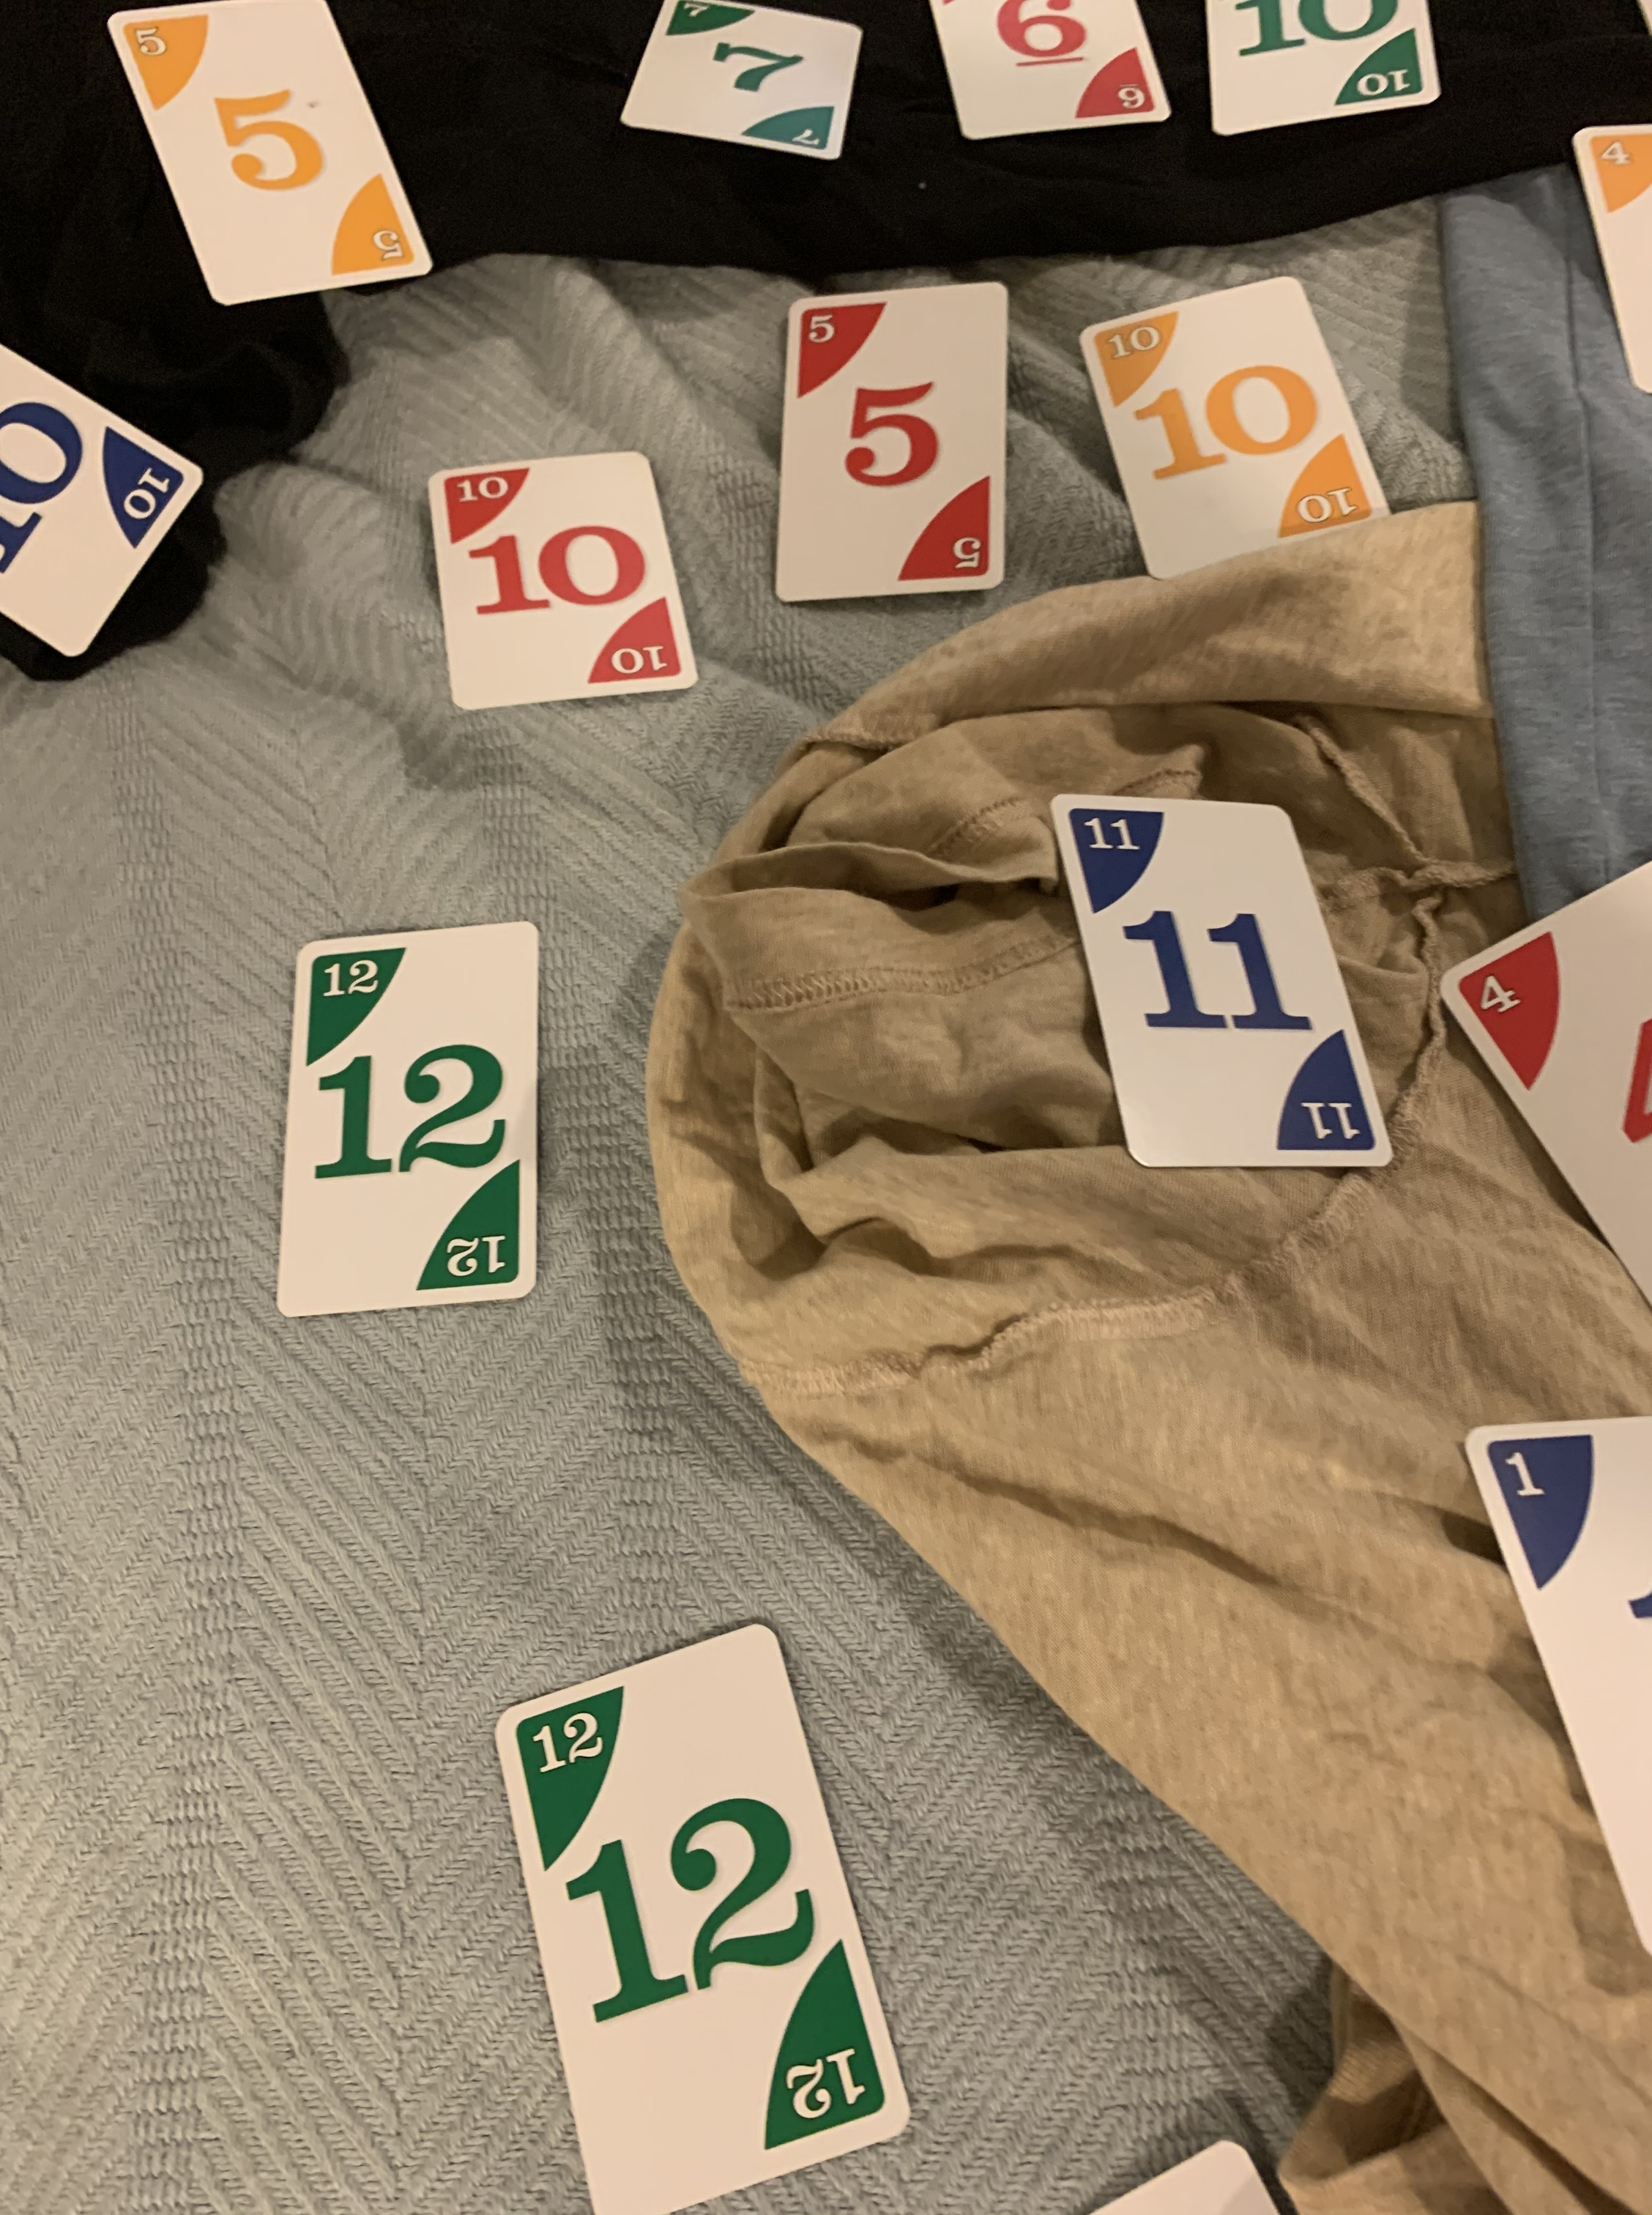eleven: (1041, 790, 1393, 1175)
five: (108, 0, 429, 314), (769, 279, 1015, 613)
ten: (1074, 264, 1393, 590), (413, 434, 706, 720)
twelve: (496, 1613, 911, 2215), (278, 918, 548, 1335)
